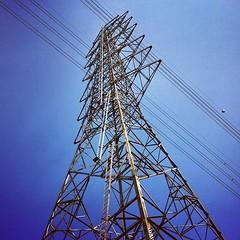power_tower: (39, 6, 227, 240)
